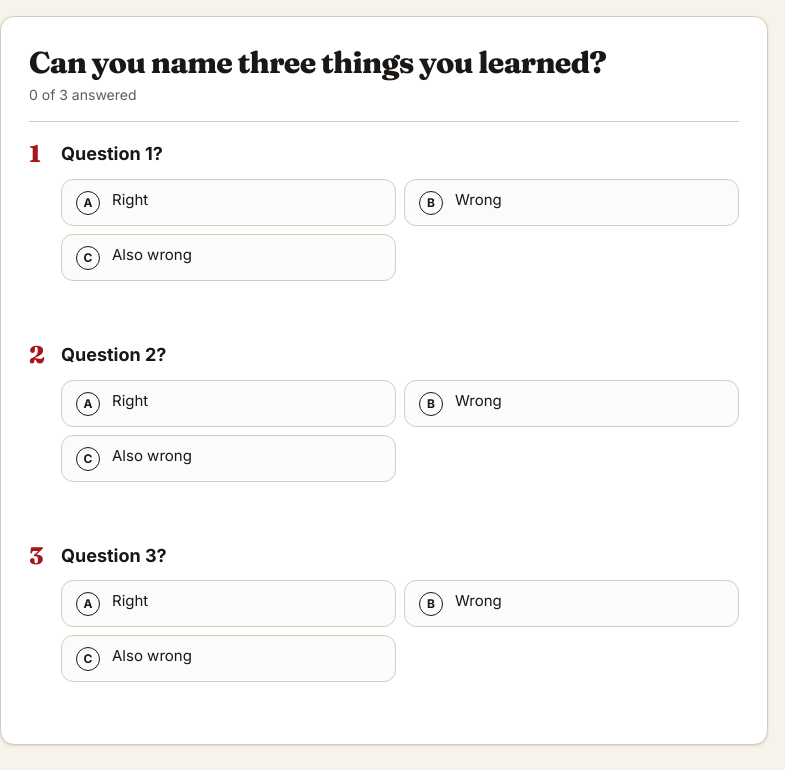
Scenario: QuizSection › gives instant feedback and logs 1 for a right answer, 0 for a wrong one
What coordinates should you click on to do the following:
click the button "A Right" below "Question 1?"
I would click on:
 (130, 199)
Its box is [61,179,396,226].
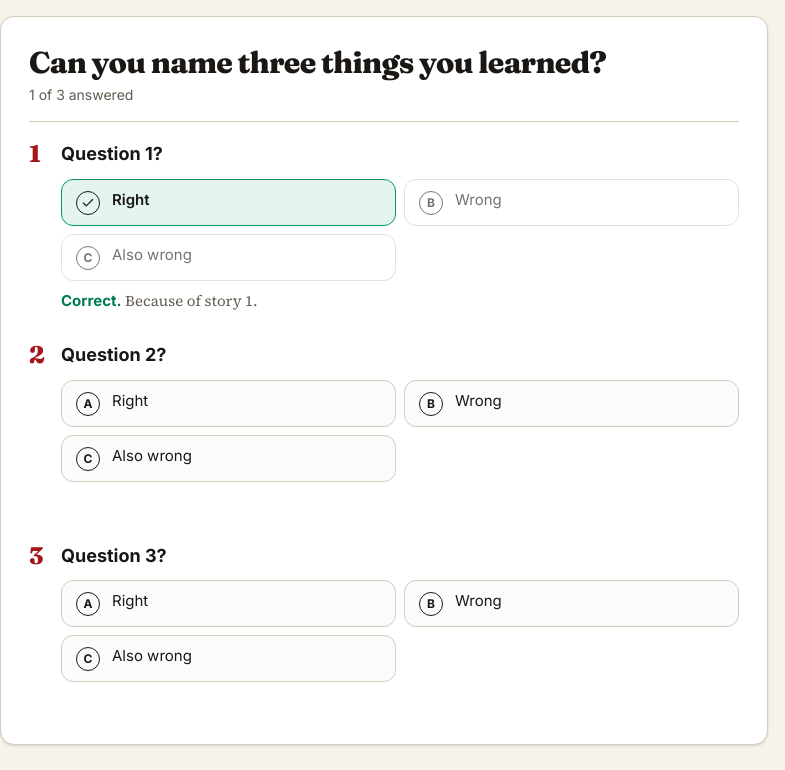
What coordinates should you click on to do the following:
click the button "B Wrong" below "Question 2?"
I would click on:
 (478, 400)
Its box is [404,380,739,426].
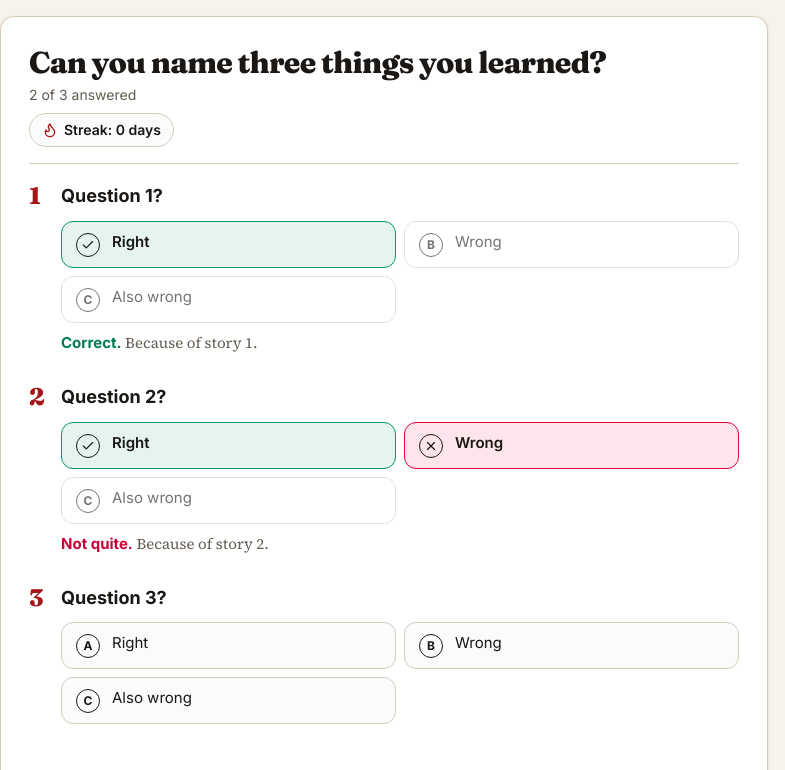
Expected: the message "Correct. Because of story 1." is shown, [61,332,258,353]
Expected: the message "Not quite. Because of story 2." is shown, [61,532,269,554]
